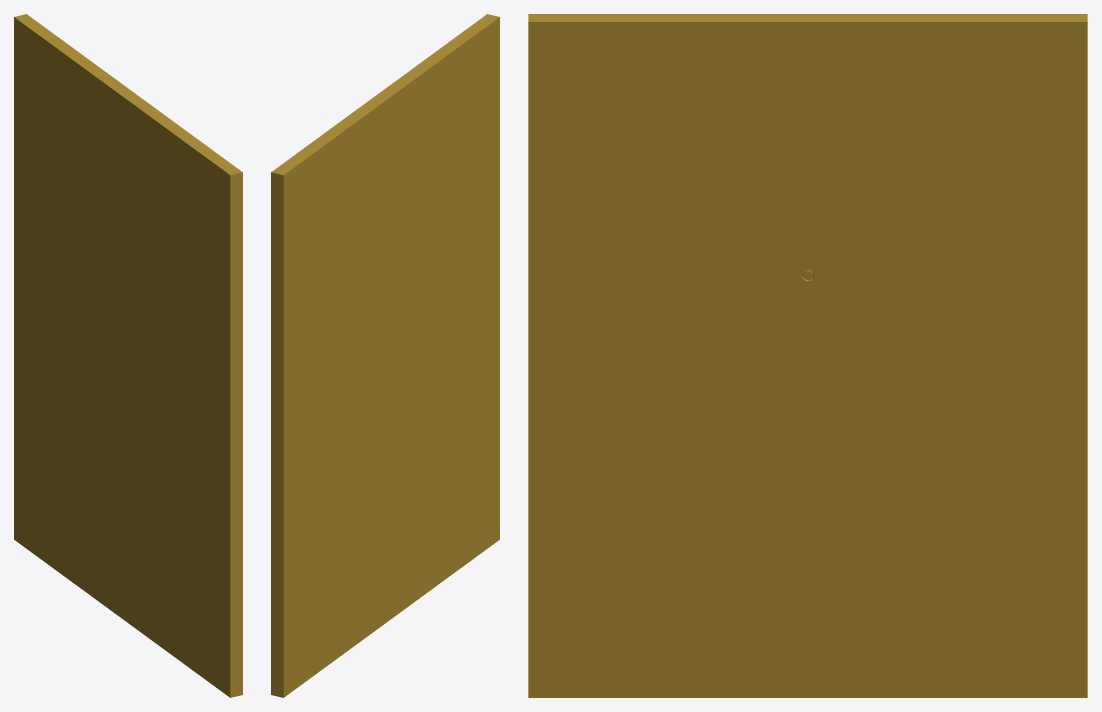
The model's file is doorRingPuzzle.fbx.
3 renders of one model, left to right at view 1: azimuth 30°, elevation 25°; view 2: azimuth 150°, elevation 25°; view 3: azimuth 270°, elevation 25°, orthographic. The views are drawn at different scales.
Parts seen in each view (by area): view 1: door1; view 2: door1; view 3: door1.
Boxes of the visible parts, bbox=[...] form: door1: bbox=[14, 14, 242, 697]; door1: bbox=[271, 14, 499, 697]; door1: bbox=[528, 14, 1087, 697].
Size of the model in its own units: 5 by 200 by 150.
